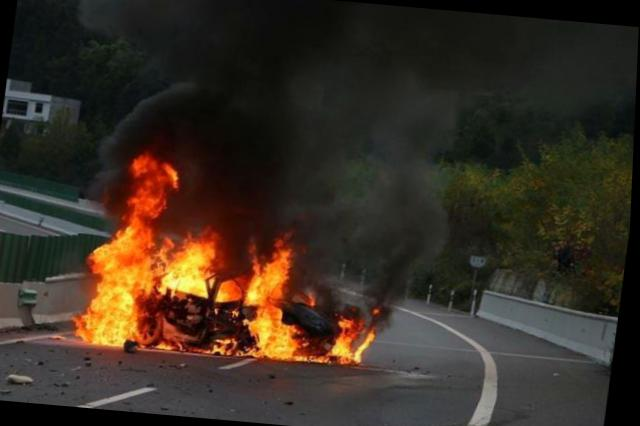fire: (68, 146, 400, 366)
